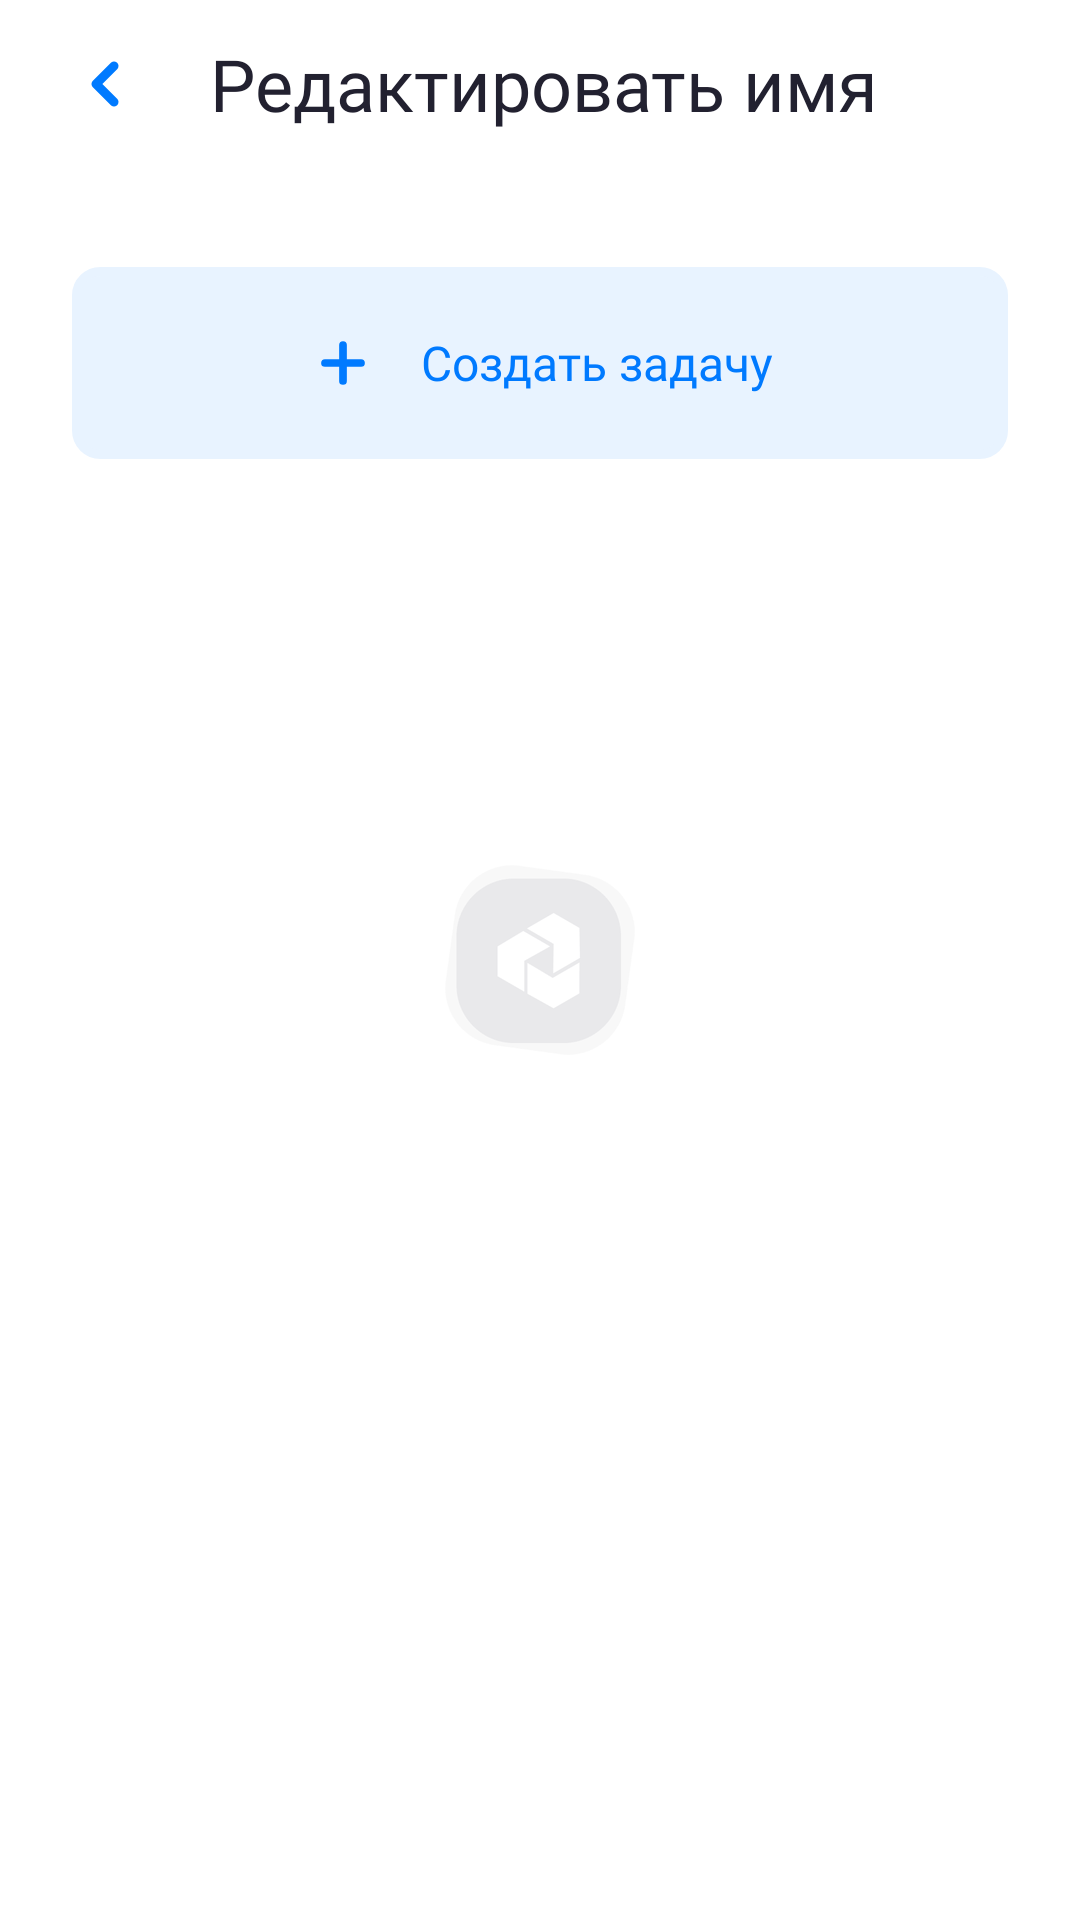

Icon click points for this 1080x1920 phone screenshot, format [x,y]:
plus: [343,363]
